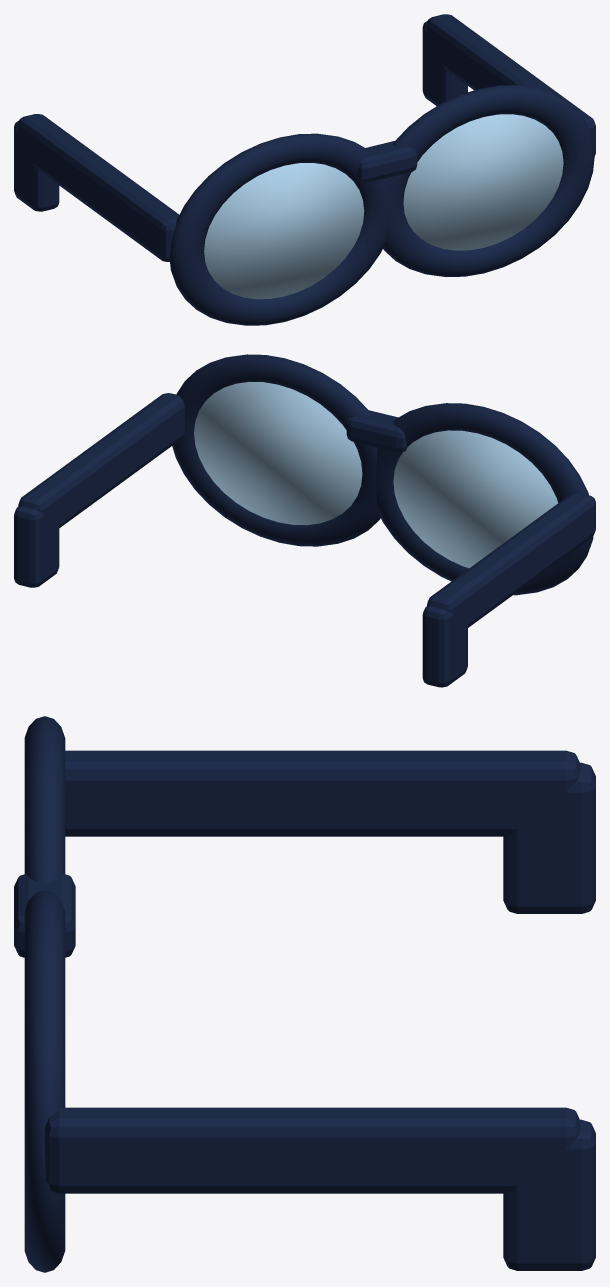
The model's file is swimgoggles.glb.
3 views of the same model, one above another, from view 1: azimuth 30°, elevation 25°; view 2: azimuth 150°, elevation 25°; view 3: azimuth 270°, elevation 25° (orthographic). The views are drawn at different scales.
Parts seen in each view (by area): view 1: LensL.001, LensR.001, RimL.001, RimR.001, ArmL.002, ArmR.002, ArmLHook.002, ArmRHook.002, Bridge.001; view 2: LensR.001, LensL.001, RimR.001, RimL.001, ArmL.002, ArmR.002, ArmRHook.002, ArmLHook.002, Bridge.001; view 3: ArmR.002, ArmL.002, RimR.001, ArmRHook.002, ArmLHook.002, RimL.001, Bridge.001.
Boxes of the visible parts, x1,y1,x2,y2 form: LensL.001: [204, 163, 364, 299]; LensR.001: [403, 114, 563, 250]; RimL.001: [170, 133, 387, 325]; RimR.001: [383, 85, 594, 277]; ArmL.002: [18, 114, 179, 261]; ArmR.002: [427, 14, 595, 155]; ArmLHook.002: [14, 120, 59, 211]; ArmRHook.002: [422, 20, 467, 105]; Bridge.001: [356, 141, 417, 182]; LensR.001: [194, 381, 362, 525]; LensL.001: [393, 430, 557, 568]; RimR.001: [172, 354, 380, 546]; RimL.001: [376, 403, 593, 595]; ArmL.002: [427, 493, 595, 634]; ArmR.002: [18, 393, 184, 527]; ArmRHook.002: [14, 505, 59, 587]; ArmLHook.002: [422, 605, 467, 687]; Bridge.001: [346, 410, 407, 452]; ArmR.002: [45, 1107, 579, 1193]; ArmL.002: [65, 750, 579, 836]; RimR.001: [24, 890, 65, 1272]; ArmRHook.002: [503, 1119, 595, 1270]; ArmLHook.002: [503, 762, 595, 913]; RimL.001: [24, 716, 65, 883]; Bridge.001: [14, 874, 75, 957].
Size of the model in its own units: 0.436 by 0.176 by 0.2825.
